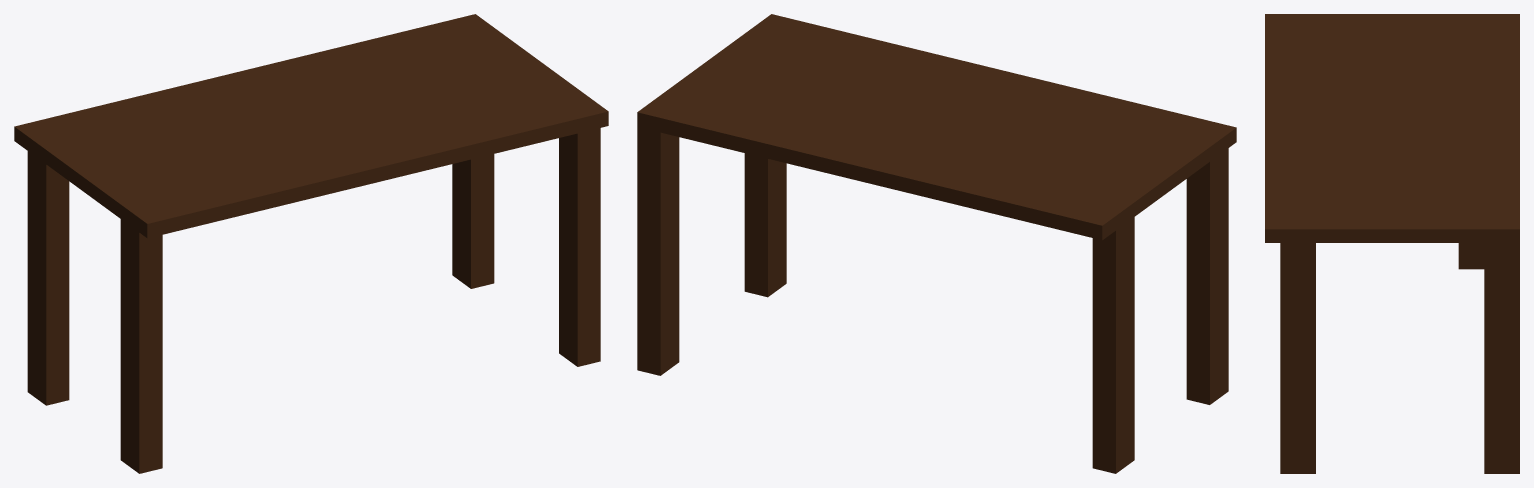
The model's file is Table.fbx.
3 views of the same model, side by side, from view 1: azimuth 30°, elevation 25°; view 2: azimuth 150°, elevation 25°; view 3: azimuth 270°, elevation 25° (orthographic). The views are drawn at different scales.
Parts seen in each view (by area): view 1: block (×5); view 2: block (×5); view 3: block (×4).
Boxes of the visible parts, box(x1,y1,x2,y2) form: block (×5): box(14, 14, 608, 473); block (×5): box(637, 14, 1236, 473); block (×4): box(1265, 14, 1519, 473).
Bounding box in the file's own units: 20 × 10.6 × 10.
